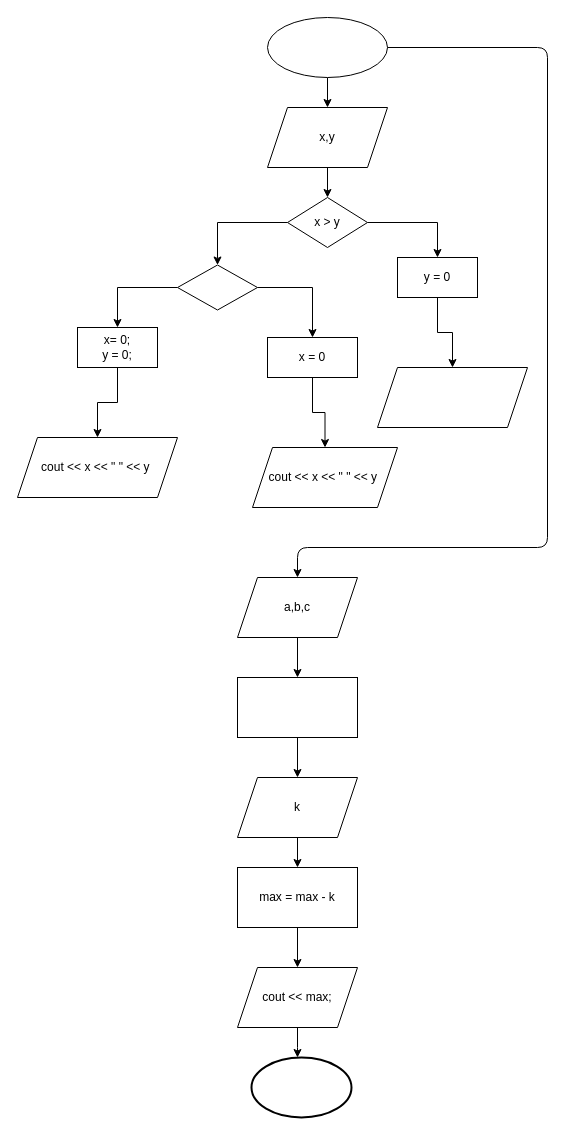
Some shapes in this 573 by 1136 pixel diagram are drawn without their labels. Each missing label, with the centre of its shape:
......... max = a[i];: (297,707)
cout << x << " " << y;: (452,397)
end: (301,1087)
start: (327,47)
y > x: (217,287)
